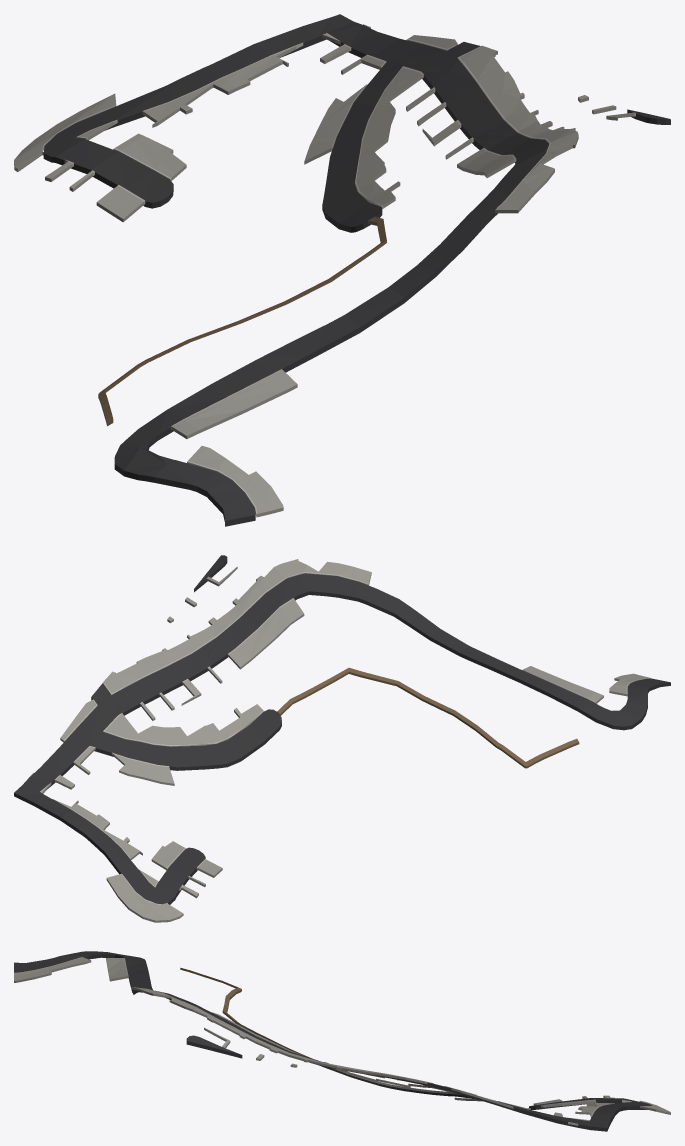
3 renders of one model, top to bottom at view 1: azimuth 30°, elevation 25°; view 2: azimuth 150°, elevation 25°; view 3: azimuth 270°, elevation 25°, orthographic. The views are drawn at different scales.
Bounding box in the file's own units: 134 × 53.62 × 197.
